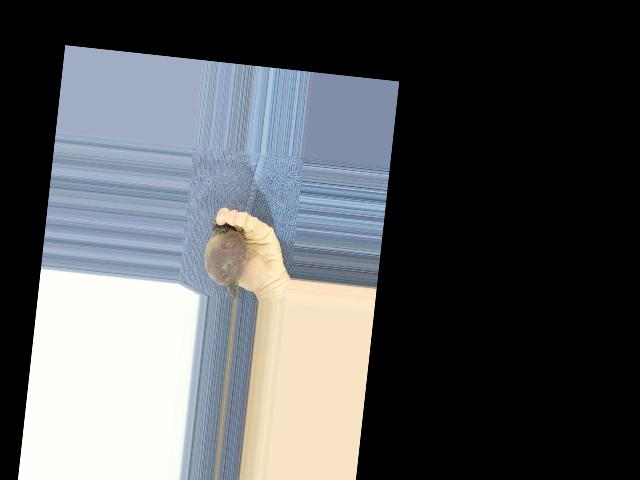beet: (200, 217, 251, 299)
